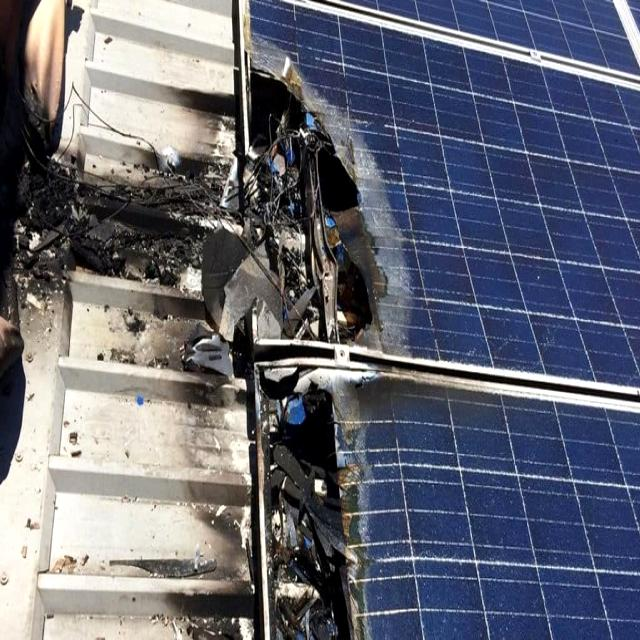shadow: (240, 29, 430, 360), (246, 367, 375, 640)
